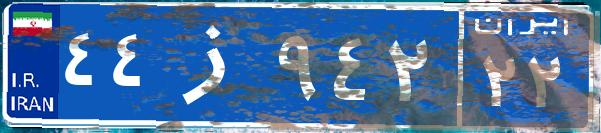2: (385, 28, 445, 110), (475, 38, 525, 113), (525, 38, 570, 115)
4: (330, 28, 385, 110), (57, 26, 110, 107), (110, 28, 158, 105)
9: (273, 28, 330, 110)
ز: (158, 15, 273, 115)
